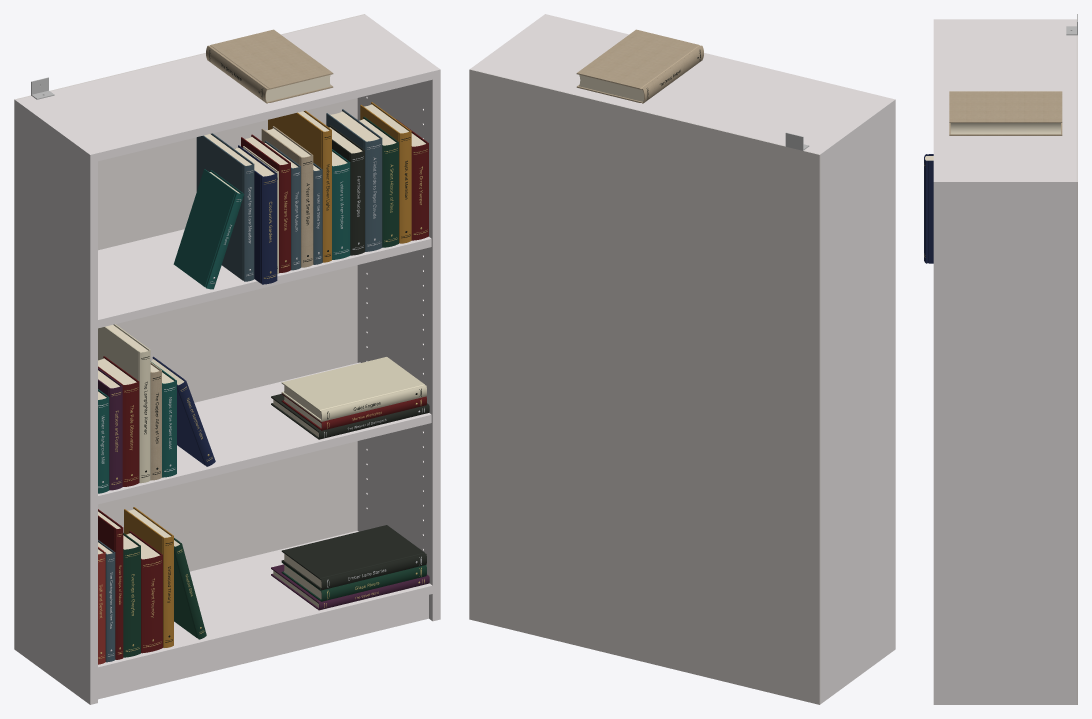
The model's file is bookshelf_with_books.glb.
3 renders of one model, left to right at view 1: azimuth 30°, elevation 25°; view 2: azimuth 150°, elevation 25°; view 3: azimuth 270°, elevation 25°, orthographic. The views are drawn at different scales.
Parts seen in each view (by area): view 1: Back_panel_mesh, Case_mesh.011; view 2: Back_panel_mesh, Case_mesh.011; view 3: Back_panel_mesh, Case_mesh.011.
Boxes of the visible parts, bbox=[...] form: Back_panel_mesh: bbox=[14, 14, 440, 704]; Case_mesh.011: bbox=[150, 29, 333, 480]; Back_panel_mesh: bbox=[469, 14, 895, 704]; Case_mesh.011: bbox=[576, 29, 703, 103]; Back_panel_mesh: bbox=[924, 14, 1077, 704]; Case_mesh.011: bbox=[949, 91, 1062, 135].
Size of the model in its own units: 0.7999 by 1.23 by 0.3202.
2 materials, 2 textured.
